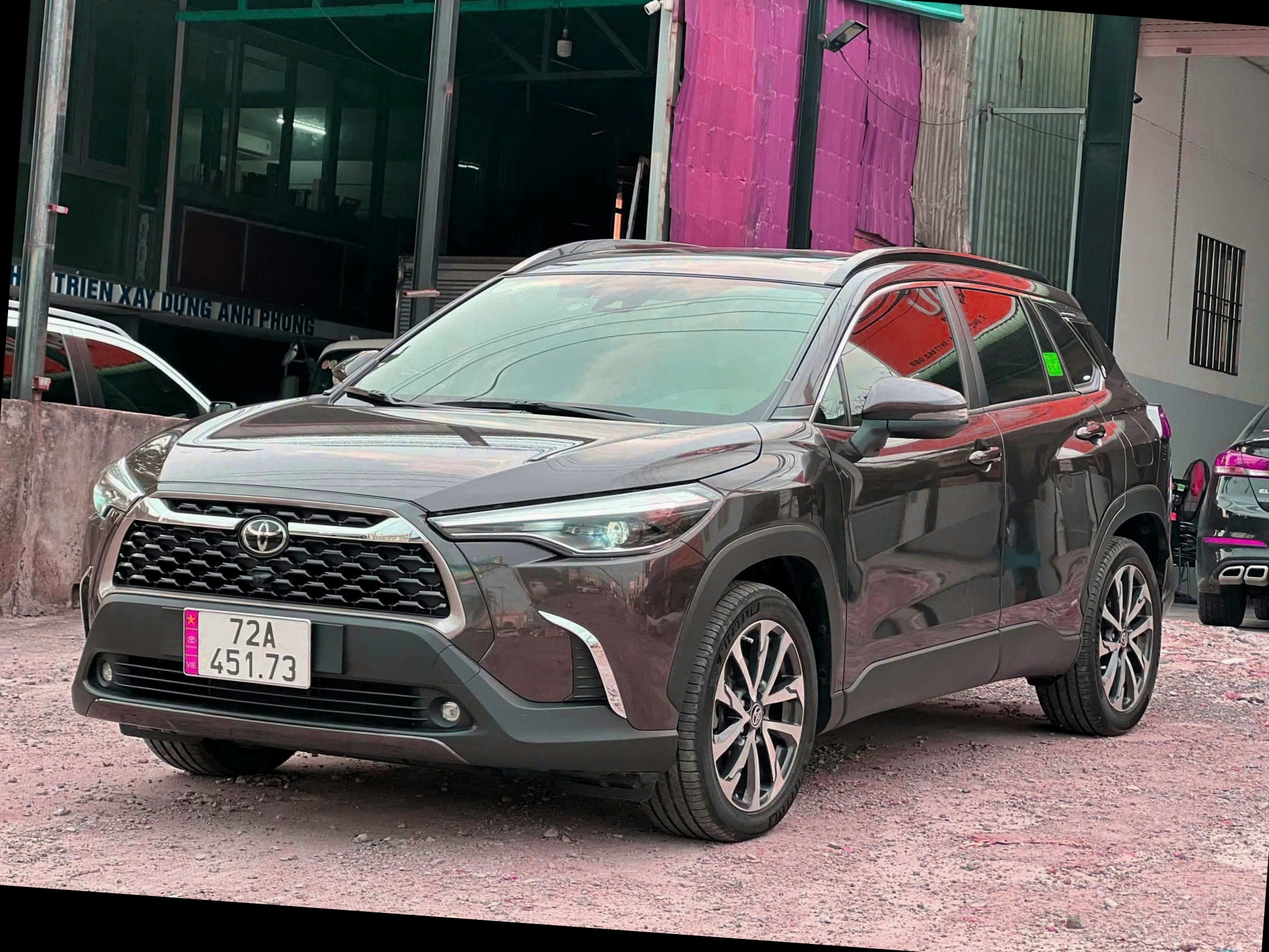Bien-so: (163, 622, 296, 715)
